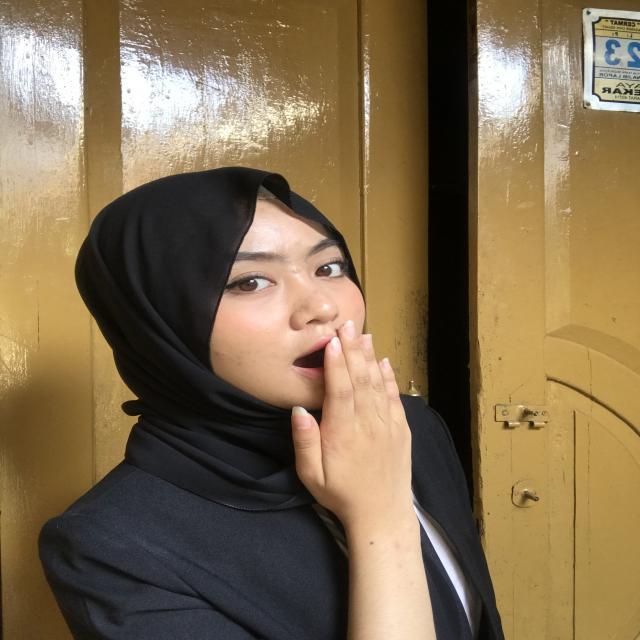ngantuk: (246, 311, 433, 514)
